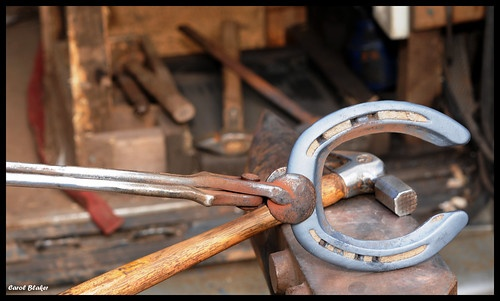hammer: (323, 146, 418, 216)
